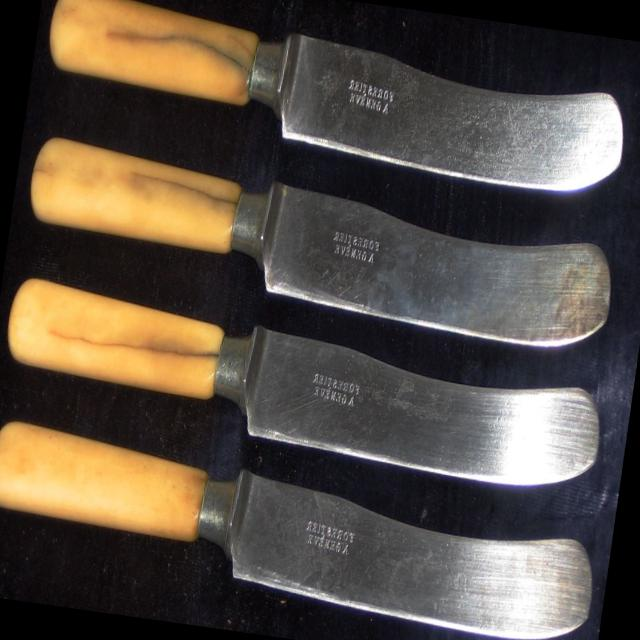Weapon: (0, 266, 611, 501), (0, 411, 612, 640), (18, 130, 625, 353), (30, 0, 640, 202)
